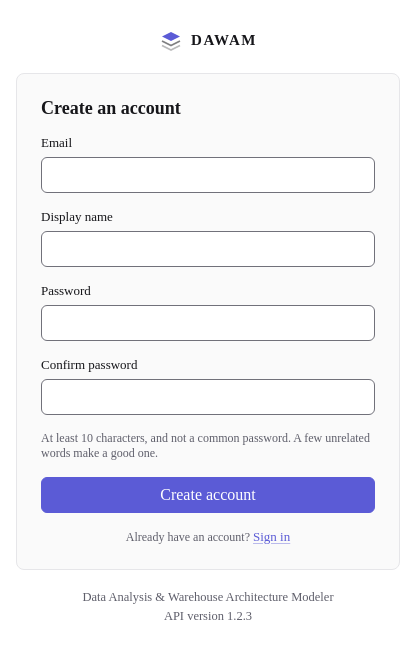
signing up › shows the password policy's message
The width and height of the screenshot is (417, 653).
Type "grace@example.com" into the field labelled "Email". click: (208, 174)
box: [41,156,375,192]
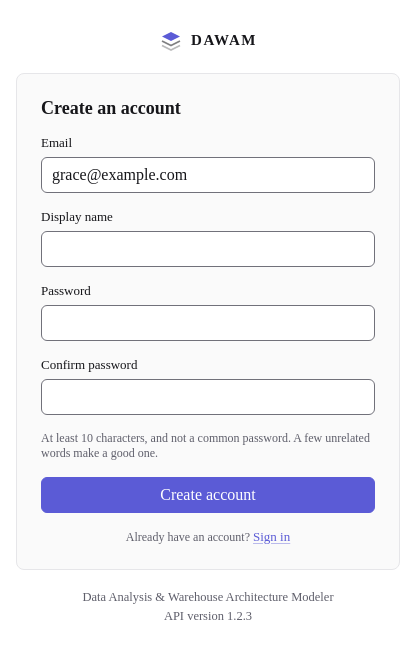
Type "Grace Hopper" into the field labelled "Display name". click: (208, 248)
box: [41,230,375,266]
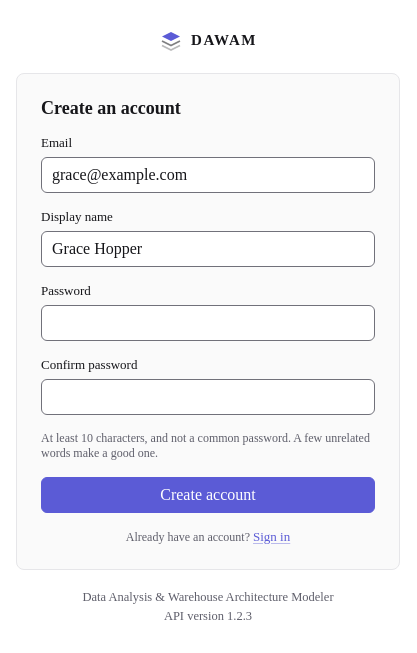
Type "short" into the password field labelled "Password". click: (208, 322)
box: [41,304,375,340]
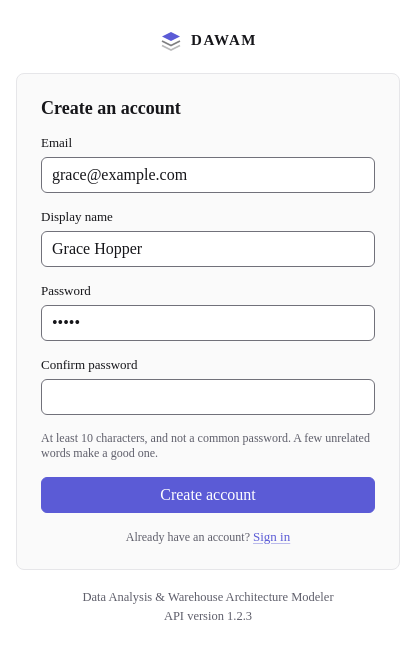
Type "short" into the password field labelled "Confirm password". click: (208, 396)
box: [41,378,375,414]
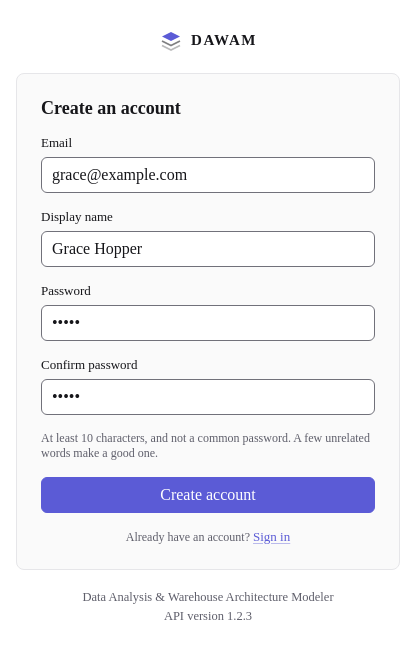
Click the button "Create account". click: (208, 494)
box: [41,476,375,512]
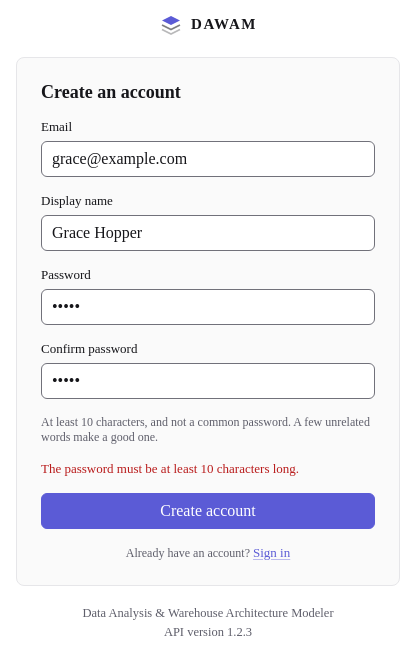
Expected: the message reads "The password must be at least 10 characters long.", [41,460,299,476]
